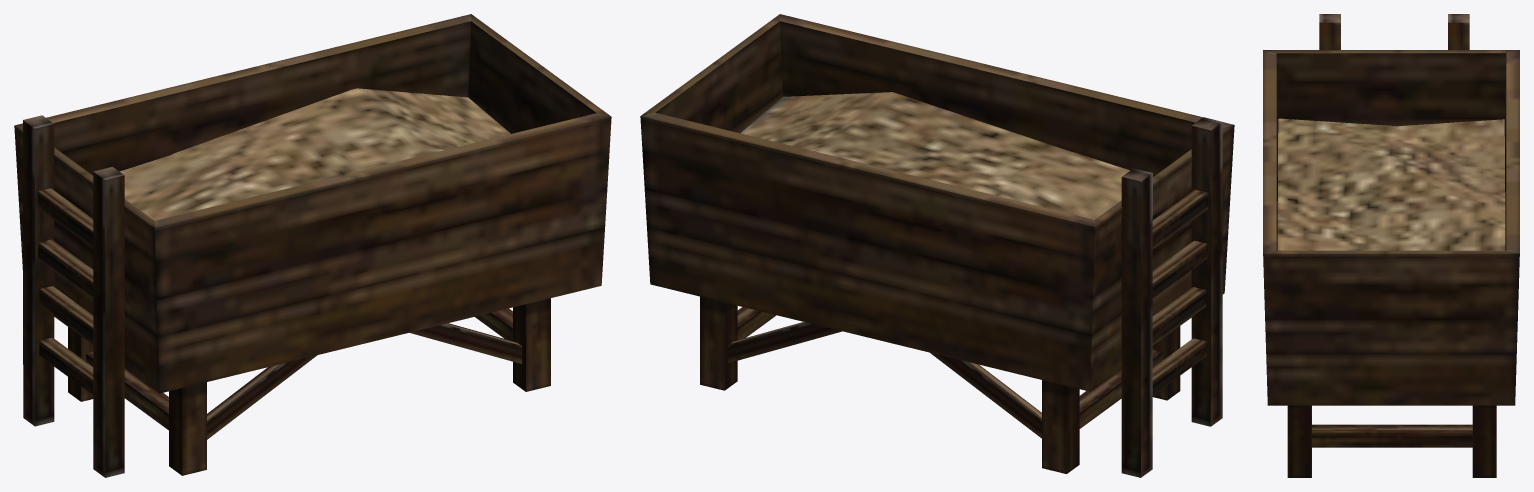
Rendered from general_obj_woodbox.glb.
The picture shows the model from 3 angles, left to right: view 1: azimuth 30°, elevation 25°; view 2: azimuth 150°, elevation 25°; view 3: azimuth 270°, elevation 25°; orthographic projection. The views are drawn at different scales.
Parts seen in each view (by area): view 1: Object02; view 2: Object02; view 3: Object02.
Boxes of the visible parts, x1,y1,x2,y2 form: Object02: (14, 14, 611, 477); Object02: (640, 14, 1234, 477); Object02: (1263, 14, 1519, 477).
Bounding box in the file's own units: 2.36 × 1.41 × 1.21.
1 material, 1 textured.
